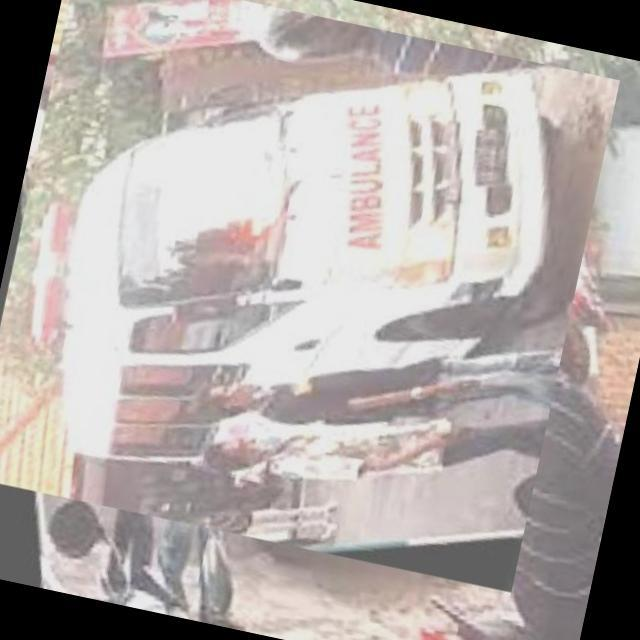emergency-vehicle: (0, 0, 614, 599)
